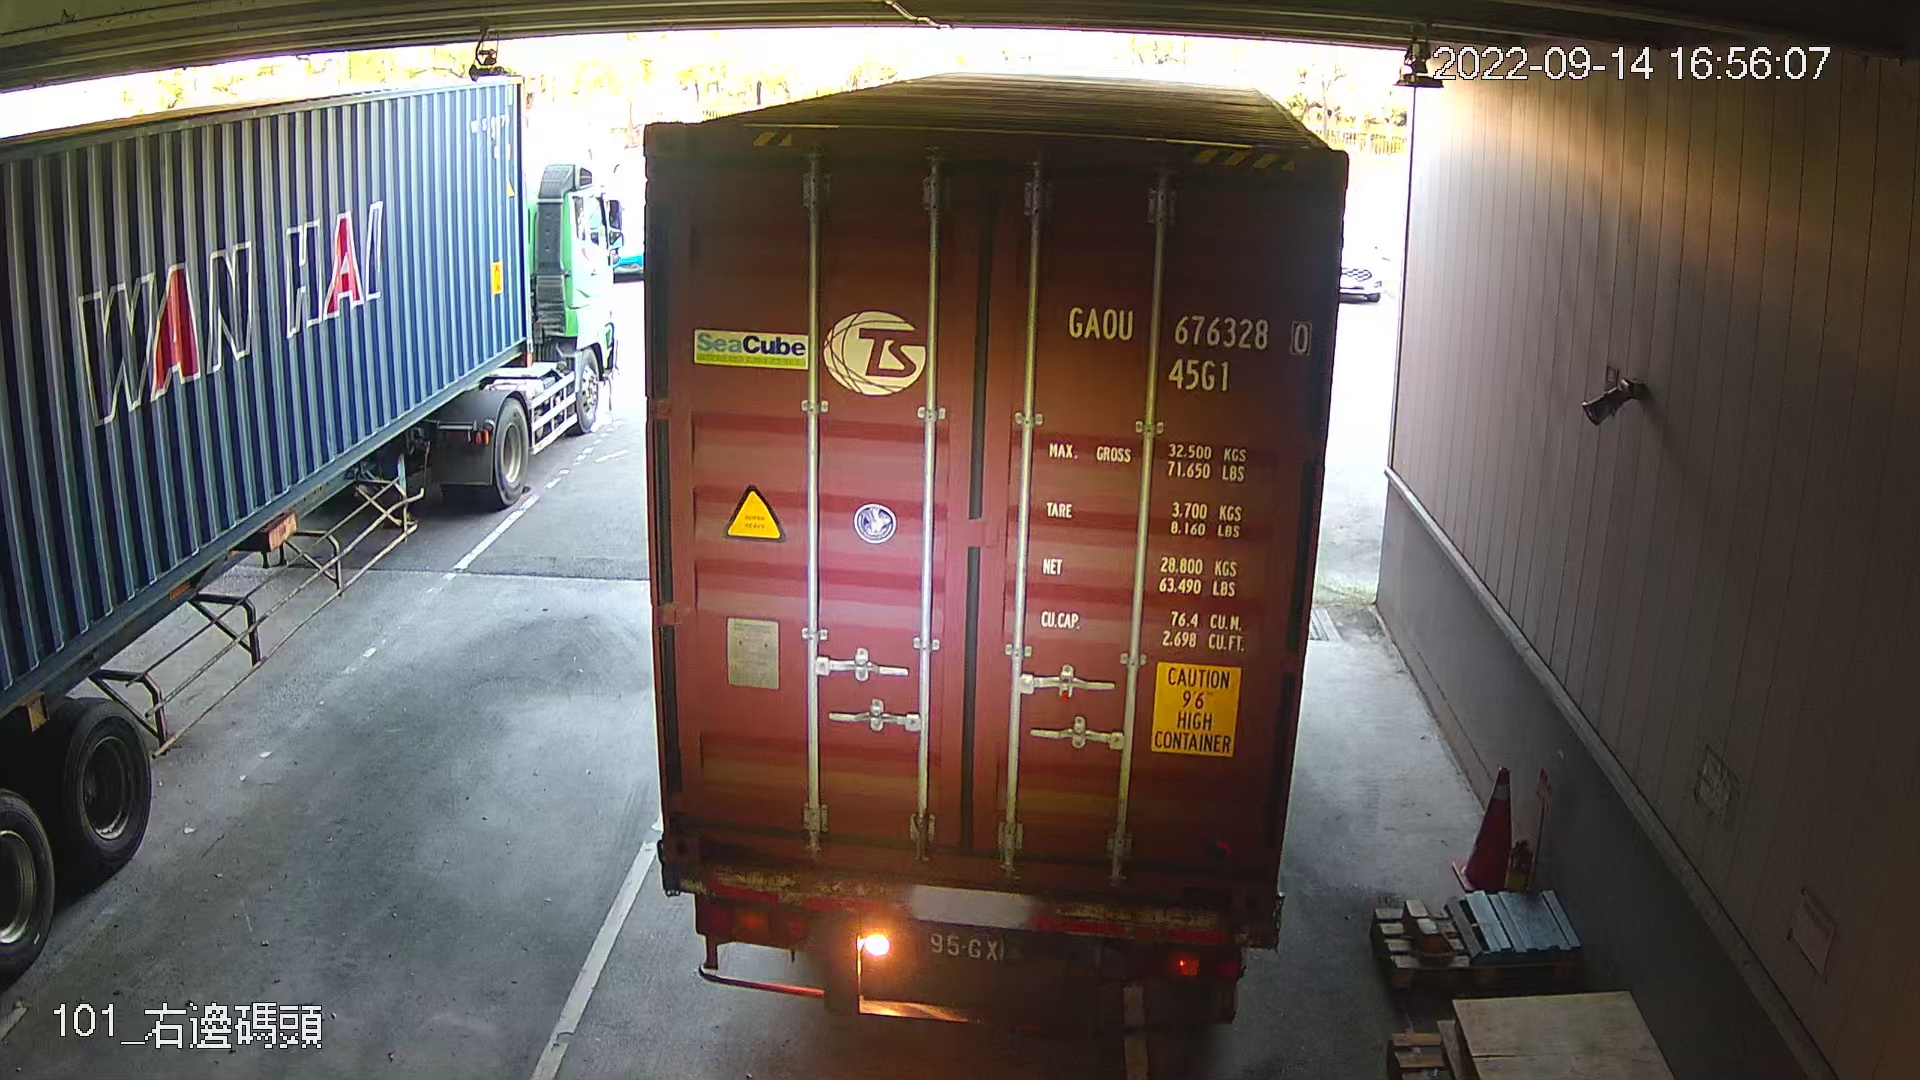container: (1059, 289, 1320, 397)
